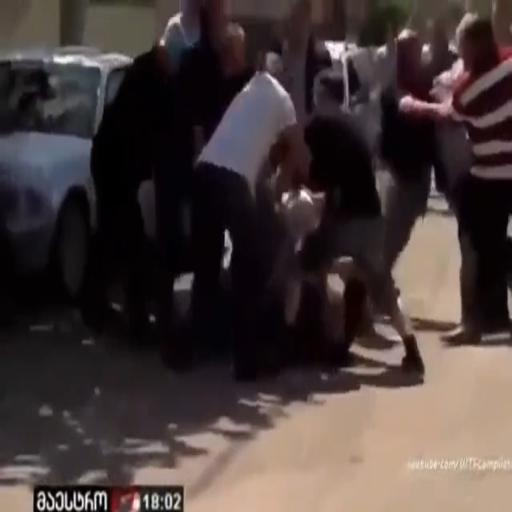violencia: (146, 26, 435, 404)
